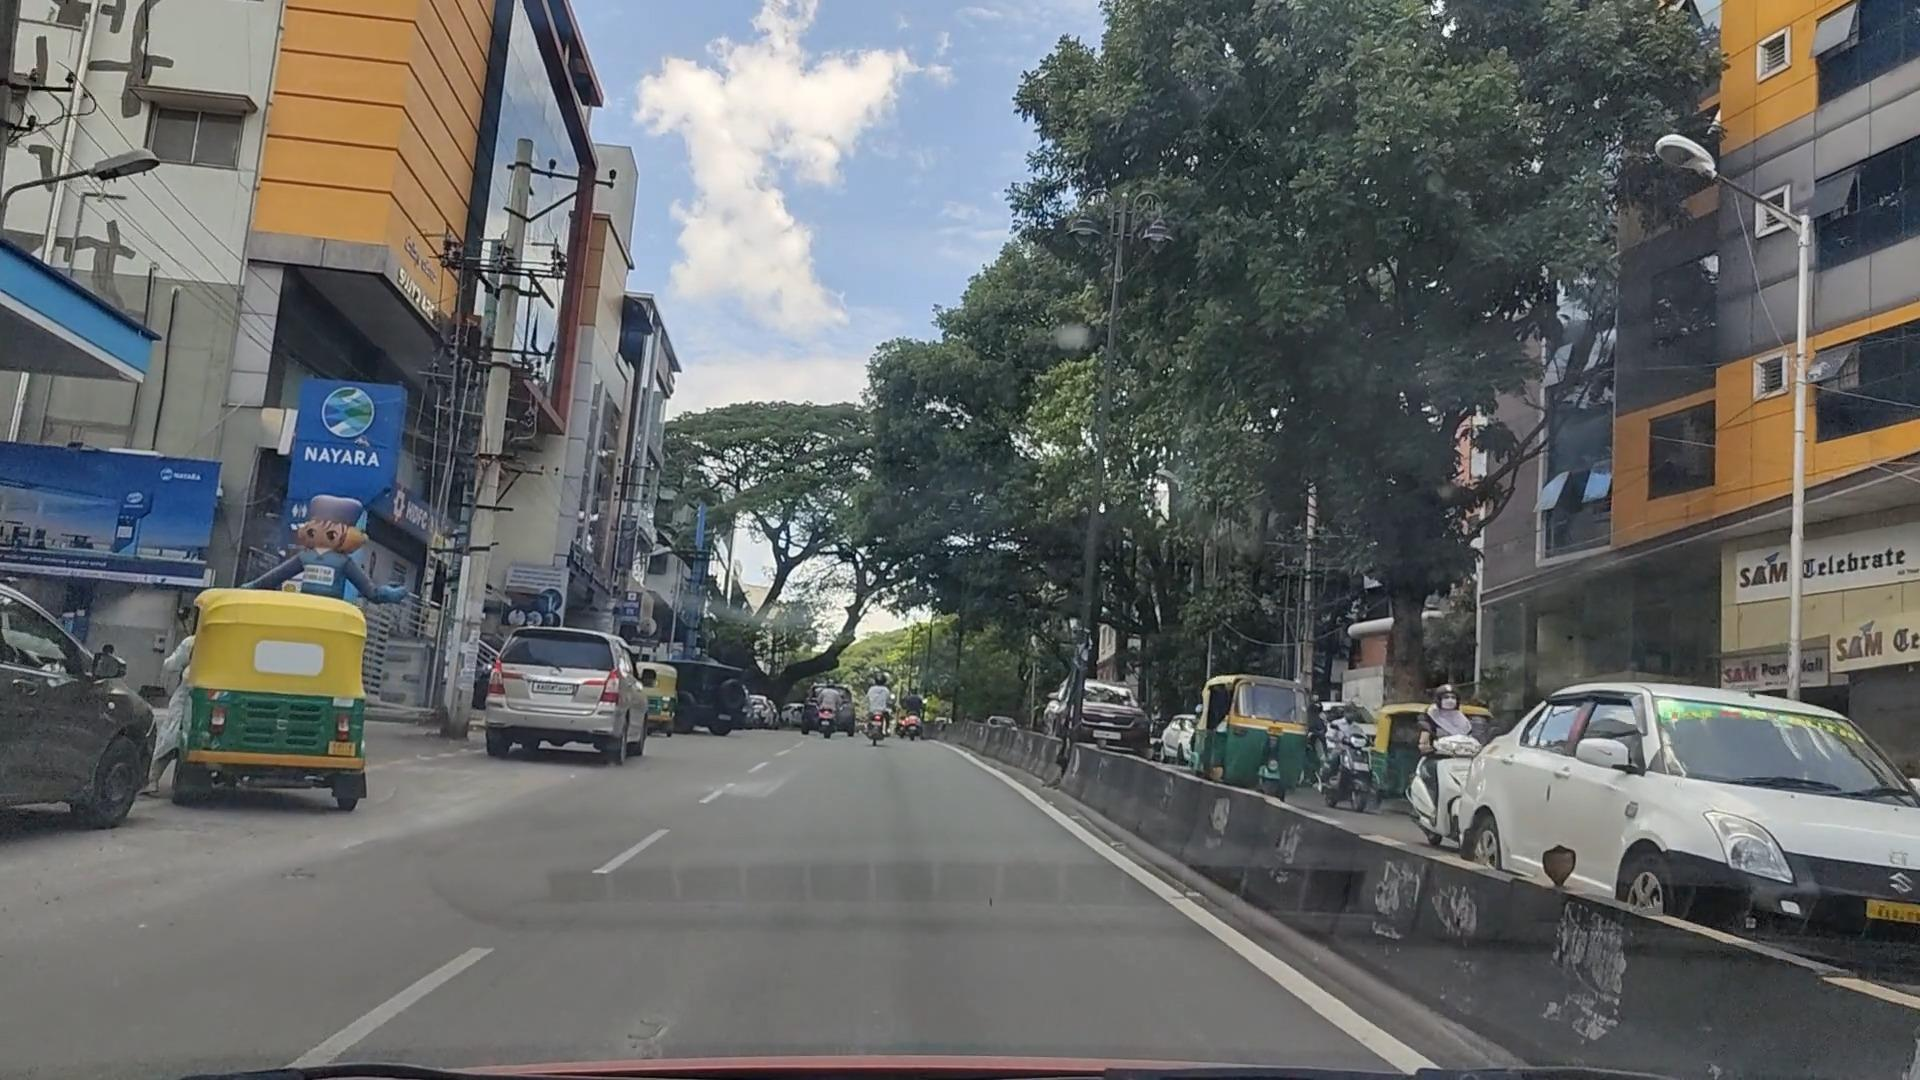LMV: (175, 591, 385, 824)
RoadDamages: (560, 1007, 705, 1063)
